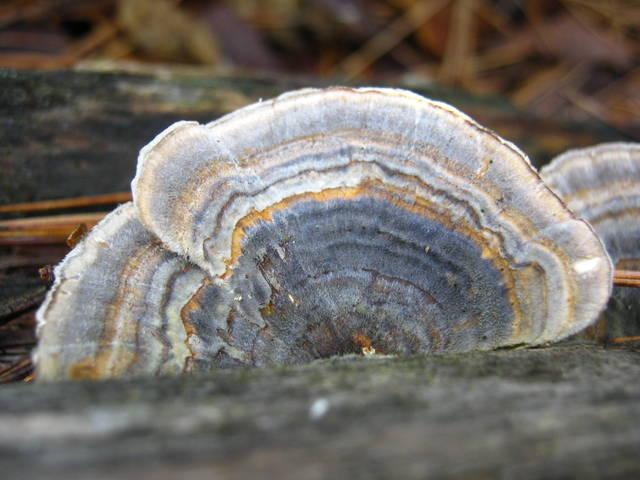poisonous_mushroom: (30, 83, 616, 382)
